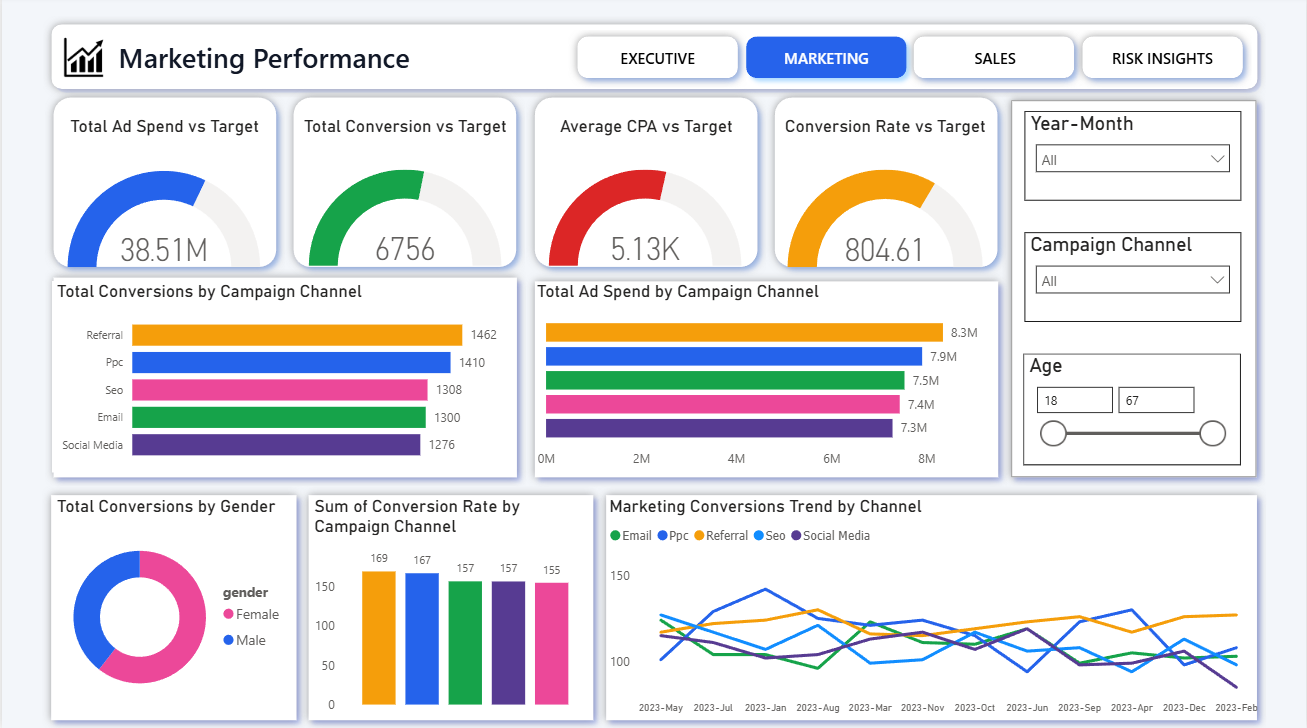

What the dashboard file says about the page in this screenshot:
{"tool":"powerbi","page":{"name":"Marketing Performance","canvas":[1280,720],"ordinal":1},"visuals":[{"type":"shape","box":[40.5,20,1200,79.8],"z":0},{"type":"shape","box":[513.8,271.2,472.7,210.2],"z":0,"group":"g5"},{"type":"image","box":[40.5,38,58.9,44.2],"z":1000},{"type":"shape","box":[292.9,481.4,297.3,238.8],"z":1000,"group":"g8"},{"type":"shape","box":[555.8,30.7,175.5,58.9],"z":2000},{"type":"shape","box":[42.3,90.8,236.4,184.1],"z":2000,"group":"g3"},{"type":"shape","box":[721.1,30.7,175.5,58.9],"z":3000},{"type":"clusteredBarChart","title":"Total Ad Spend by Campaign Channel","fields":{"Category":["sales_marketing_bi marketing_cleaned.campaign_channel"],"Y":["sales_marketing_bi marketing_cleaned.Total Ad Spend"]},"box":[520,279.9,461.5,192.8],"z":3000,"group":"g5"},{"type":"shape","box":[886.3,30.7,175.5,58.9],"z":4000},{"type":"shape","box":[278.2,90.8,236.4,184.1],"z":4000,"group":"g3"},{"type":"shape","box":[1051.5,30.7,175.5,58.9],"z":5000},{"type":"shape","box":[514.2,90.8,236.4,184.1],"z":5000,"group":"g3"},{"type":"actionButton","title":"Marketing ","box":[566.1,41.7,155.8,40.5],"z":6000},{"type":"shape","box":[750.1,90.8,236.4,184.1],"z":6000,"group":"g2"},{"type":"actionButton","title":"Marketing ","box":[731.3,41.7,155.8,40.5],"z":7000},{"type":"shape","box":[42.3,267.5,472.7,214],"z":7000,"group":"g4"},{"type":"actionButton","title":"Marketing ","box":[896.5,41.7,155.8,40.5],"z":8000},{"type":"shape","box":[981.5,93.3,258.7,388.1],"z":8000,"group":"g1"},{"type":"actionButton","title":"Marketing ","box":[1061.8,41.7,155.8,40.5],"z":9000},{"type":"shape","box":[584.6,481.4,656.8,238.8],"z":9000,"group":"g7"},{"type":"group","id":"g1","title":"Group 1","box":[981.5,93.3,258.7,388.1],"z":10000},{"type":"shape","box":[39.8,481.4,258.7,238.8],"z":10000,"group":"g6"},{"type":"group","id":"g2","title":"Group 2","box":[750.1,90.8,236.4,184.1],"z":11000},{"type":"slicer","title":"Year-Month","fields":{"Values":["DateTable.Year-Month"]},"box":[1003.9,113.2,212.7,88.3],"z":11000,"group":"g1"},{"type":"group","id":"g3","title":"Group 3","box":[42.3,90.8,708.2,184.1],"z":12000},{"type":"clusteredBarChart","title":"Total Conversions by Campaign Channel","fields":{"Category":["sales_marketing_bi marketing_cleaned.campaign_channel"],"Y":["sales_marketing_bi marketing_cleaned.Total Conversions"]},"box":[49.8,279.9,449.1,187.8],"z":12000,"group":"g4"},{"type":"group","id":"g4","title":"Group 4","box":[42.3,267.5,472.7,214],"z":13000},{"type":"clusteredColumnChart","title":"Sum of Conversion Rate by Campaign Channel","fields":{"Category":["sales_marketing_bi marketing_cleaned.campaign_channel"],"Y":["Sum(sales_marketing_bi marketing_cleaned.conversion_rate)"]},"box":[302.2,491.4,277.4,218.9],"z":13000,"group":"g8"},{"type":"slicer","title":"Campaign Channel","fields":{"Values":["sales_marketing_bi marketing_cleaned.campaign_channel"]},"box":[1003.8,232.2,212.6,88],"z":14000,"group":"g1"},{"type":"group","id":"g5","title":"Group 5","box":[513.8,271.2,472.7,210.2],"z":14000},{"type":"group","id":"g6","title":"Group 8","box":[39.8,481.4,1201.7,238.8],"z":15000},{"type":"donutChart","title":"Total Conversions by Gender","fields":{"Category":["sales_marketing_bi marketing_cleaned.gender"],"Y":["sales_marketing_bi marketing_cleaned.Total Conversions"]},"box":[49.8,491.4,237.6,218.9],"z":15000,"group":"g6"},{"type":"lineChart","title":"Marketing Conversions Trend by Channel","fields":{"Category":["DateTable.Year-Month"],"Y":["sales_marketing_bi marketing_cleaned.Total Conversions"],"Series":["sales_marketing_bi marketing_cleaned.campaign_channel"]},"box":[592.1,491.4,648.1,221.4],"z":16000,"group":"g7"},{"type":"slicer","title":"Age","fields":{"Values":["sales_marketing_bi marketing_cleaned.age"]},"box":[1002.6,350.8,214,109.5],"z":17000,"group":"g1"},{"type":"gauge","title":"Total Ad Spend vs Target","fields":{"Y":["sales_marketing_bi marketing_cleaned.Total Ad Spend"],"MaxValue":["sales_marketing_bi marketing_cleaned.Ad Spend Max"]},"box":[54.7,166.7,210.2,104.5],"z":18000,"group":"g3"},{"type":"gauge","title":"Total Conversion vs Target","fields":{"Y":["sales_marketing_bi marketing_cleaned.Total Conversions"],"MaxValue":["sales_marketing_bi marketing_cleaned.Conversions Max"]},"box":[291.1,165.4,210.2,104.5],"z":19000,"group":"g3"},{"type":"gauge","title":"Average CPA vs Target","fields":{"Y":["sales_marketing_bi marketing_cleaned.Average CPA"],"MaxValue":["sales_marketing_bi marketing_cleaned.CPA Max"]},"box":[527.4,165.4,210.2,104.5],"z":20000,"group":"g3"},{"type":"gauge","title":"Conversion Rate vs Target","fields":{"Y":["Sum(sales_marketing_bi marketing_cleaned.conversion_rate)"],"MaxValue":["sales_marketing_bi marketing_cleaned.Conversion Rate Max"]},"box":[762.5,165.4,210.2,105.7],"z":21000,"group":"g2"},{"type":"textbox","box":[58.5,113.2,204,32.3],"z":22000,"group":"g3"},{"type":"textbox","box":[286.1,113.2,220.2,32.3],"z":23000,"group":"g3"},{"type":"textbox","box":[538.6,113.2,187.8,32.3],"z":24000,"group":"g3"},{"type":"textbox","box":[753.8,113.2,227.6,32.3],"z":25000,"group":"g2"},{"type":"group","id":"g7","title":"Group 6","box":[584.6,481.4,656.8,238.8],"z":25006,"group":"g8"},{"type":"group","id":"g8","title":"Group 7","box":[292.9,481.4,948.5,238.8],"z":25007,"group":"g6"}]}

Visuals, with their boxes in screenshot pixels (x1, y1, x2, y2), scaled from the page's 1280x720 canvas onto the 1307x728 screenshot:
shape: (x1=41, y1=20, x2=1267, y2=101)
shape: (x1=525, y1=274, x2=1007, y2=487)
image: (x1=41, y1=38, x2=101, y2=83)
shape: (x1=299, y1=487, x2=603, y2=727)
shape: (x1=568, y1=31, x2=747, y2=91)
shape: (x1=43, y1=92, x2=285, y2=278)
shape: (x1=736, y1=31, x2=916, y2=91)
"Total Ad Spend by Campaign Channel" clusteredBarChart: (x1=531, y1=283, x2=1002, y2=478)
shape: (x1=905, y1=31, x2=1084, y2=91)
shape: (x1=284, y1=92, x2=525, y2=278)
shape: (x1=1074, y1=31, x2=1253, y2=91)
shape: (x1=525, y1=92, x2=766, y2=278)
"Marketing " actionButton: (x1=578, y1=42, x2=737, y2=83)
shape: (x1=766, y1=92, x2=1007, y2=278)
"Marketing " actionButton: (x1=747, y1=42, x2=906, y2=83)
shape: (x1=43, y1=270, x2=526, y2=487)
"Marketing " actionButton: (x1=915, y1=42, x2=1074, y2=83)
shape: (x1=1002, y1=94, x2=1266, y2=487)
"Marketing " actionButton: (x1=1084, y1=42, x2=1243, y2=83)
shape: (x1=597, y1=487, x2=1268, y2=727)
"Group 1" group: (x1=1002, y1=94, x2=1266, y2=487)
shape: (x1=41, y1=487, x2=305, y2=727)
"Group 2" group: (x1=766, y1=92, x2=1007, y2=278)
"Year-Month" slicer: (x1=1025, y1=114, x2=1242, y2=204)
"Group 3" group: (x1=43, y1=92, x2=766, y2=278)
"Total Conversions by Campaign Channel" clusteredBarChart: (x1=51, y1=283, x2=509, y2=473)
"Group 4" group: (x1=43, y1=270, x2=526, y2=487)
"Sum of Conversion Rate by Campaign Channel" clusteredColumnChart: (x1=309, y1=497, x2=592, y2=718)
"Campaign Channel" slicer: (x1=1025, y1=235, x2=1242, y2=324)
"Group 5" group: (x1=525, y1=274, x2=1007, y2=487)
"Group 8" group: (x1=41, y1=487, x2=1268, y2=727)
"Total Conversions by Gender" donutChart: (x1=51, y1=497, x2=293, y2=718)
"Marketing Conversions Trend by Channel" lineChart: (x1=605, y1=497, x2=1266, y2=721)
"Age" slicer: (x1=1024, y1=355, x2=1242, y2=465)
"Total Ad Spend vs Target" gauge: (x1=56, y1=169, x2=270, y2=274)
"Total Conversion vs Target" gauge: (x1=297, y1=167, x2=512, y2=273)
"Average CPA vs Target" gauge: (x1=539, y1=167, x2=753, y2=273)
"Conversion Rate vs Target" gauge: (x1=779, y1=167, x2=993, y2=274)
textbox: (x1=60, y1=114, x2=268, y2=147)
textbox: (x1=292, y1=114, x2=517, y2=147)
textbox: (x1=550, y1=114, x2=742, y2=147)
textbox: (x1=770, y1=114, x2=1002, y2=147)
"Group 6" group: (x1=597, y1=487, x2=1268, y2=727)
"Group 7" group: (x1=299, y1=487, x2=1268, y2=727)
